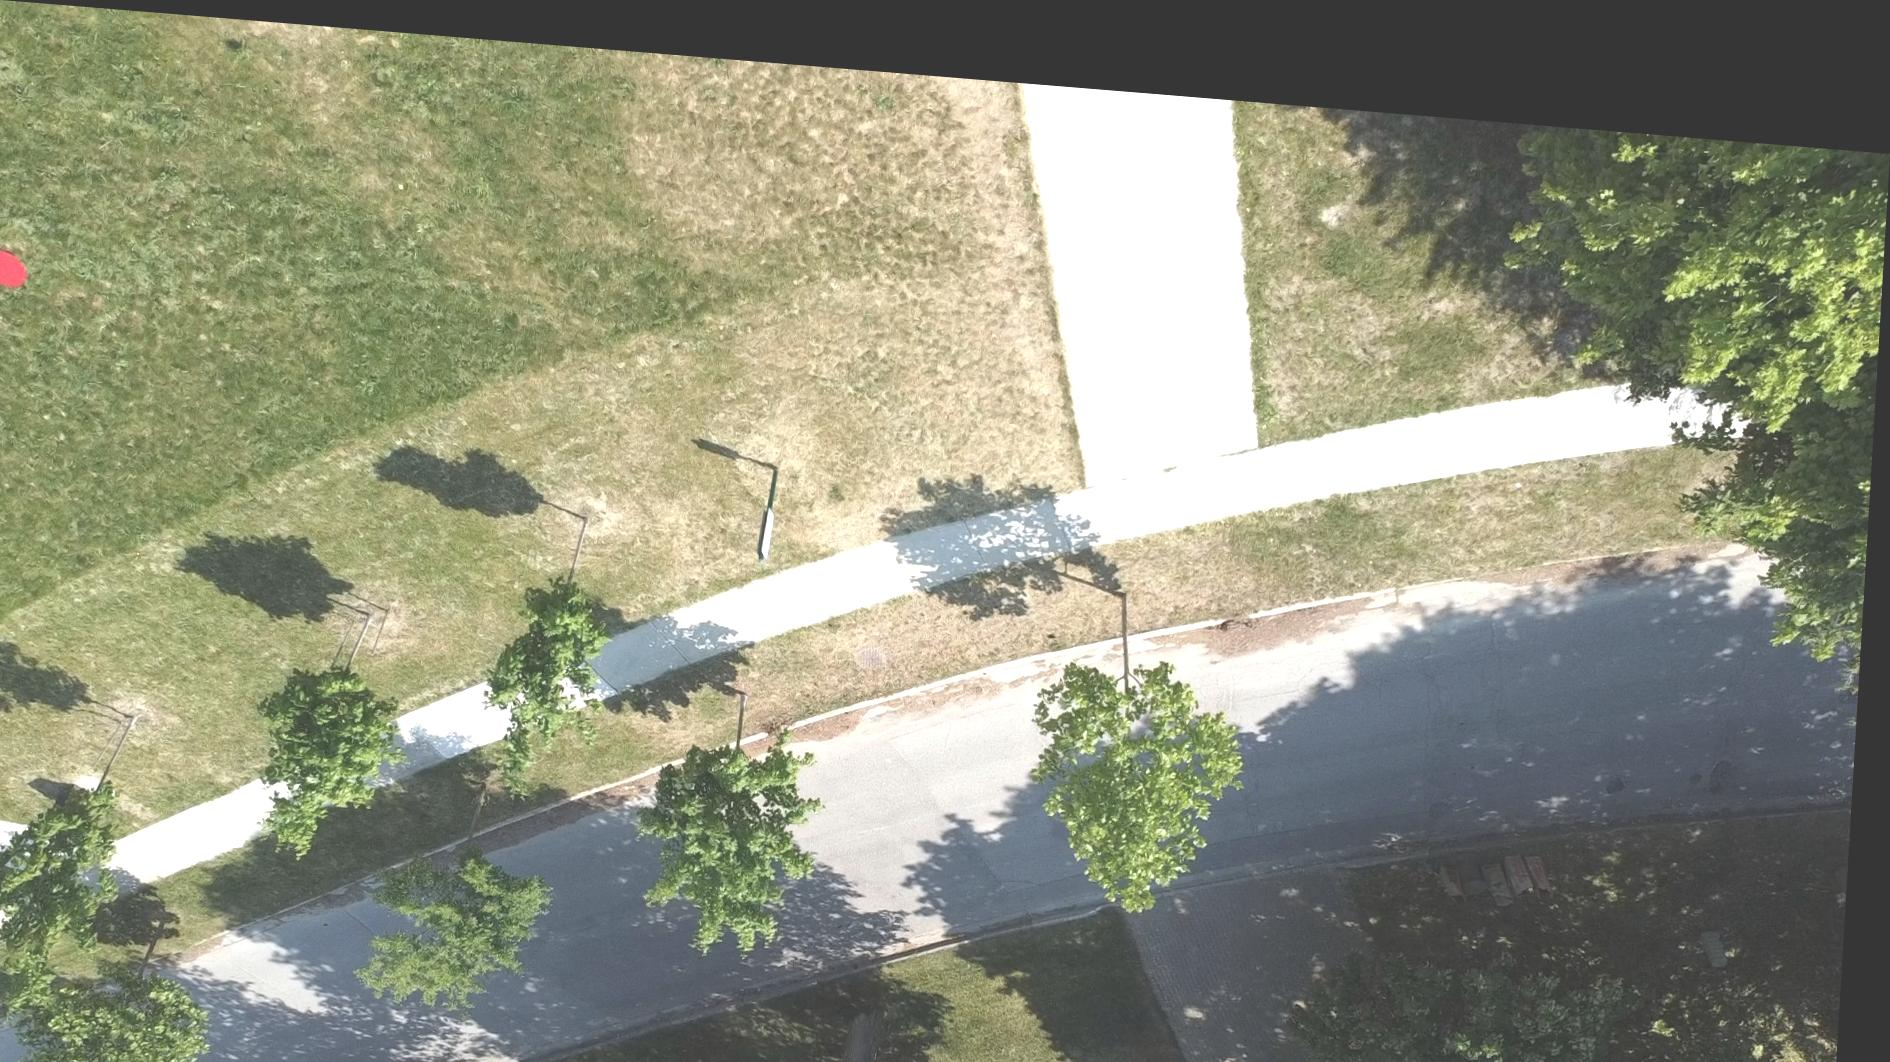Red: (0, 247, 34, 290)
